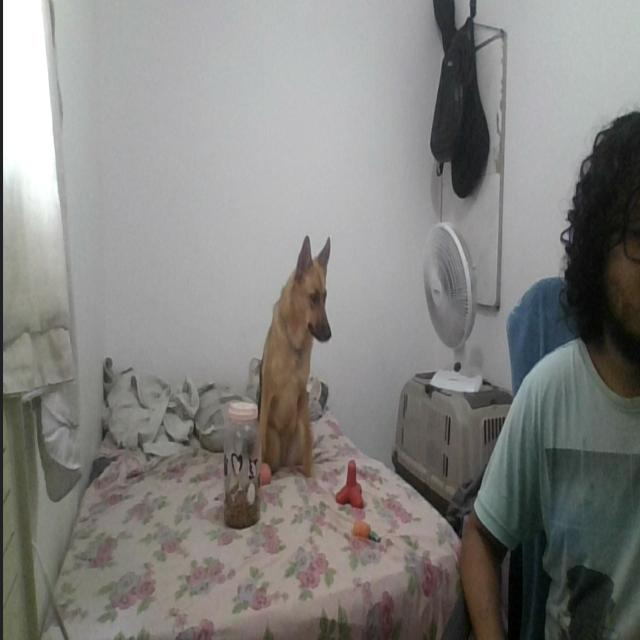bolinha: (258, 463, 272, 487)
brinquedo caro: (332, 457, 366, 510)
cachorro: (236, 234, 333, 479)
cenora de brinquedo: (350, 514, 380, 548)
humano: (463, 112, 640, 640)
racao: (226, 399, 258, 529)
